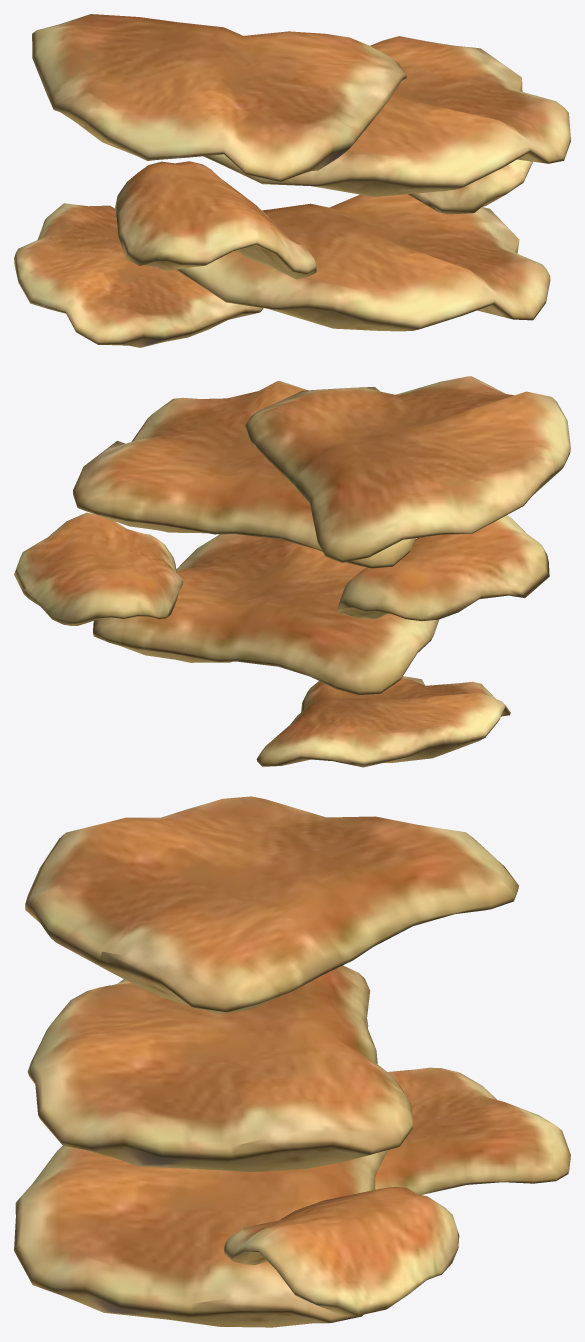
The model's file is mushroom-shelf.glb.
3 views of the same model, one above another, from view 1: azimuth 30°, elevation 25°; view 2: azimuth 150°, elevation 25°; view 3: azimuth 270°, elevation 25° (orthographic). The views are drawn at different scales.
Parts seen in each view (by area): view 1: Mushroom_Laetiporus; view 2: Mushroom_Laetiporus; view 3: Mushroom_Laetiporus.
Part boxes in pixels (x1,y1,x2,y2): Mushroom_Laetiporus: (14,14,570,347); Mushroom_Laetiporus: (14,376,570,767); Mushroom_Laetiporus: (14,796,570,1327).
Size of the model in its own units: 1.37 by 0.7669 by 1.1.
Materials: 1 (1 with a texture image).
